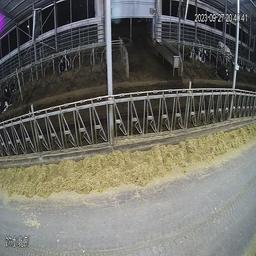cow: (1, 76, 18, 115), (213, 55, 231, 84), (55, 51, 73, 79), (189, 38, 206, 66)
